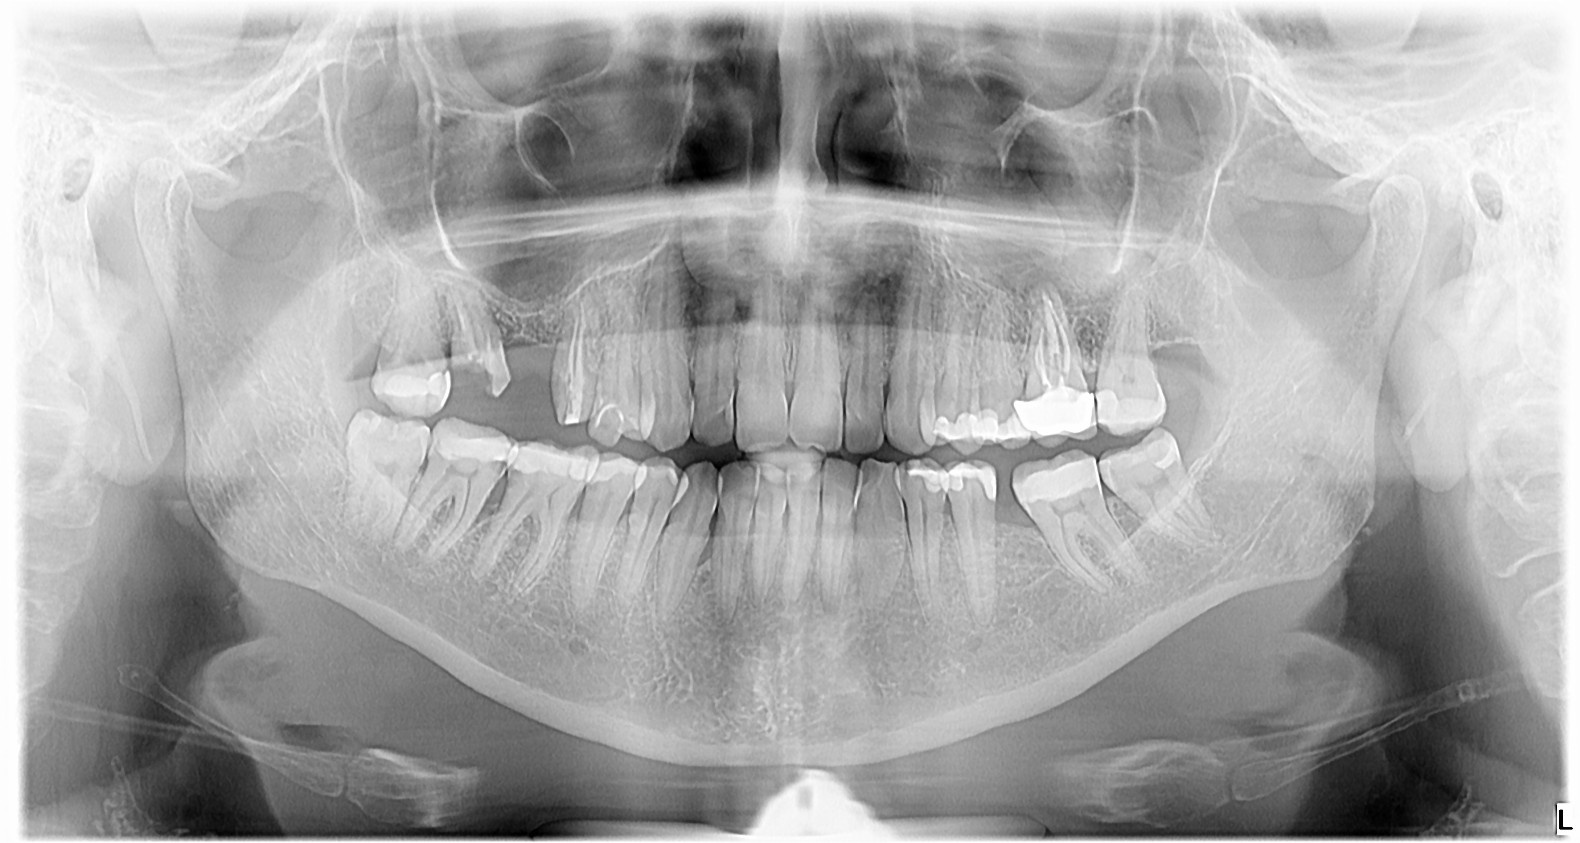END: (1023, 279, 1088, 391), (562, 284, 600, 381)
OBT: (1009, 452, 1107, 514), (368, 364, 457, 419), (423, 423, 508, 475), (1098, 377, 1166, 436), (508, 442, 585, 490), (948, 456, 1003, 513), (582, 448, 647, 496), (541, 379, 597, 435), (1141, 428, 1189, 479), (965, 401, 1016, 448), (920, 397, 967, 447), (903, 462, 954, 502)
PRR: (1015, 375, 1101, 446)
ROT: (440, 274, 518, 402)
